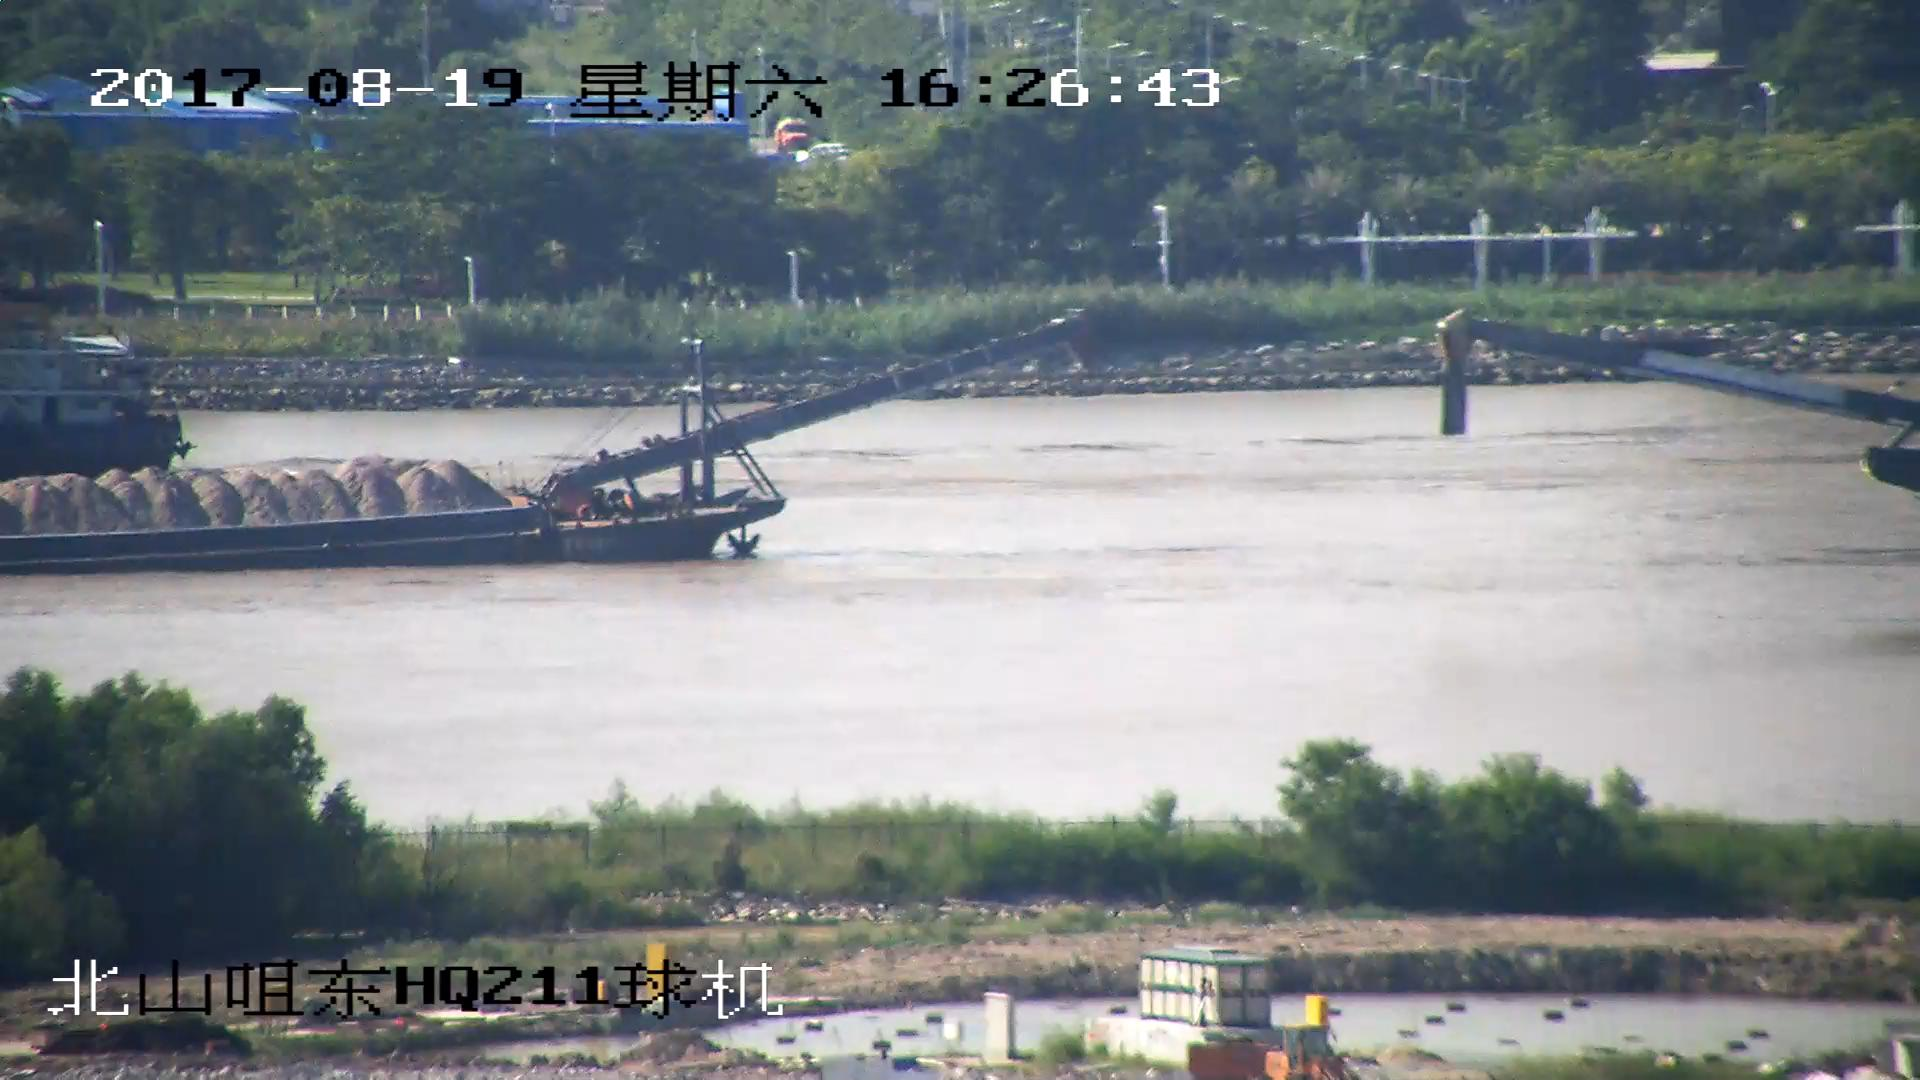bulk cargo carrier: (1, 332, 196, 464)
ore carrier: (1, 313, 1083, 583)
